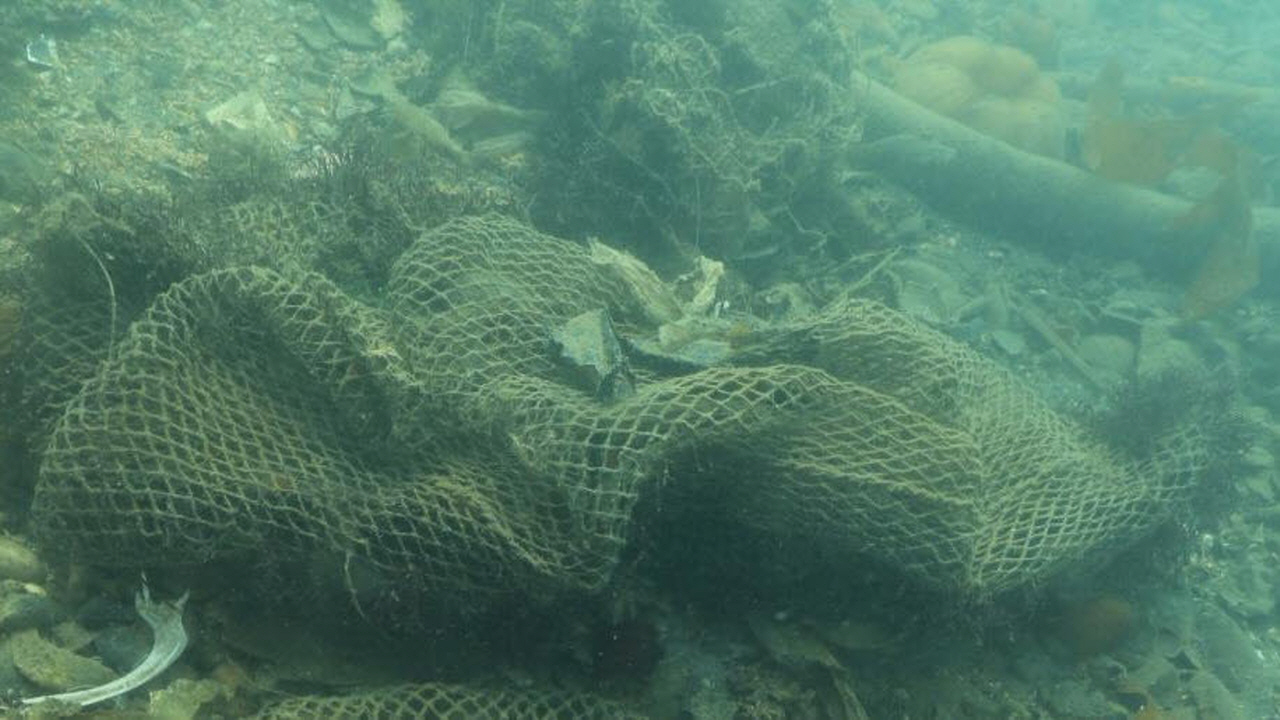fish net: (0, 200, 1213, 720)
